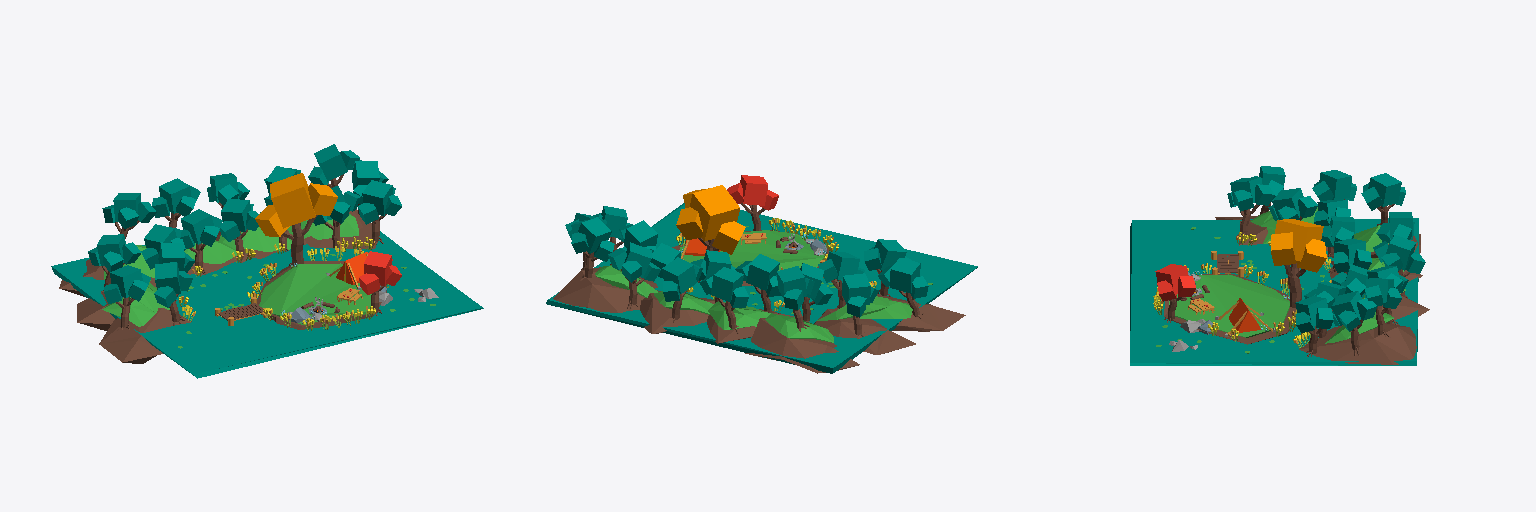
3 renders of one model, left to right at view 1: azimuth 30°, elevation 25°; view 2: azimuth 150°, elevation 25°; view 3: azimuth 270°, elevation 25°, orthographic.
Parts seen in each view (by area): view 1: group[number redacted], group[number redacted], group[number redacted], group[number redacted], group[number redacted], group[number redacted], group[number redacted], group[number redacted], group[number redacted], group[number redacted], group[number redacted], group[number redacted] (+16 smaller); view 2: group[number redacted], group[number redacted], group[number redacted], group[number redacted], group[number redacted], group[number redacted], group[number redacted], group[number redacted], group[number redacted], group[number redacted], group[number redacted], group[number redacted] (+17 smaller); view 3: group[number redacted], group[number redacted], group[number redacted], group[number redacted], group[number redacted], group[number redacted], group[number redacted], group[number redacted], group[number redacted], group[number redacted], group[number redacted], group[number redacted] (+12 smaller).
Boxes of the visible parts, box(x1,y1,x2,y2) form: group[number redacted]: box(51, 230, 483, 378); group[number redacted]: box(255, 173, 337, 265); group[number redacted]: box(259, 263, 371, 324); group[number redacted]: box(99, 308, 191, 363); group[number redacted]: box(104, 265, 150, 330); group[number redacted]: box(358, 180, 401, 244); group[number redacted]: box(152, 178, 200, 227); group[number redacted]: box(88, 234, 141, 293); group[number redacted]: box(180, 209, 222, 274); group[number redacted]: box(102, 193, 156, 238); group[number redacted]: box(359, 251, 401, 315); group[number redacted]: box(154, 262, 192, 325); group[number redacted]: box(546, 203, 977, 373); group[number redacted]: box(676, 185, 745, 282); group[number redacted]: box(553, 267, 657, 312); group[number redacted]: box(680, 230, 826, 270); group[number redacted]: box(745, 318, 859, 373); group[number redacted]: box(814, 308, 915, 354); group[number redacted]: box(571, 217, 614, 280); group[number redacted]: box(608, 242, 660, 308); group[number redacted]: box(699, 267, 748, 333); group[number redacted]: box(878, 258, 928, 318); group[number redacted]: box(727, 175, 778, 230); group[number redacted]: box(662, 257, 702, 322); group[number redacted]: box(1130, 218, 1418, 365); group[number redacted]: box(1169, 274, 1289, 337); group[number redacted]: box(1271, 219, 1326, 307); group[number redacted]: box(1299, 322, 1416, 364); group[number redacted]: box(1331, 291, 1376, 355); group[number redacted]: box(1227, 177, 1274, 239); group[number redacted]: box(1295, 296, 1333, 356); group[number redacted]: box(1155, 264, 1195, 322); group[number redacted]: box(1361, 173, 1405, 225); group[number redacted]: box(1373, 235, 1425, 297); group[number redacted]: box(1268, 188, 1317, 220); group[number redacted]: box(1365, 278, 1401, 337).
Bounding box in the file's own units: 4.24 × 1.43 × 3.31.
Materials: 13 (13 with a texture image).